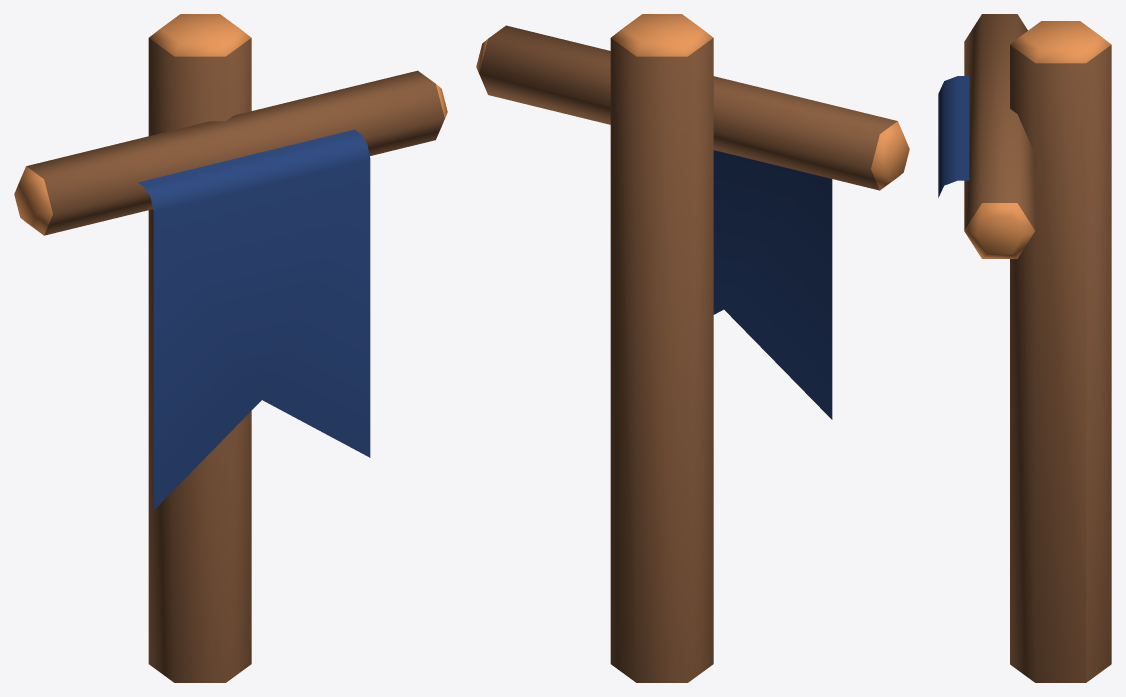
File: Flag-2.fbx
3 views of the same model, side by side, from view 1: azimuth 30°, elevation 25°; view 2: azimuth 150°, elevation 25°; view 3: azimuth 270°, elevation 25° (orthographic).
Visible parts, largest first — view 1: Cube.1519, Cylinder.311, Cylinder.312; view 2: Cylinder.311, Cube.1519, Cylinder.312; view 3: Cylinder.311, Cylinder.312, Cube.1519.
Boxes of the visible parts, x1,y1,x2,y2 form: Cube.1519: (138, 129, 370, 510); Cylinder.311: (148, 14, 251, 682); Cylinder.312: (14, 70, 447, 235); Cylinder.311: (610, 14, 713, 682); Cube.1519: (713, 150, 832, 419); Cylinder.312: (476, 25, 909, 190); Cylinder.311: (1010, 21, 1111, 682); Cylinder.312: (964, 14, 1035, 258); Cube.1519: (938, 76, 969, 197).
Bounding box in the file's own units: 36.18 × 53.66 × 13.39.
